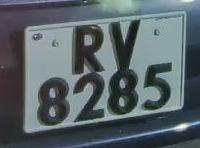2: (72, 71, 108, 123)
5: (139, 53, 178, 115)
8: (32, 69, 73, 131), (107, 63, 141, 117)
R: (67, 20, 110, 76)
V: (103, 17, 145, 71)
